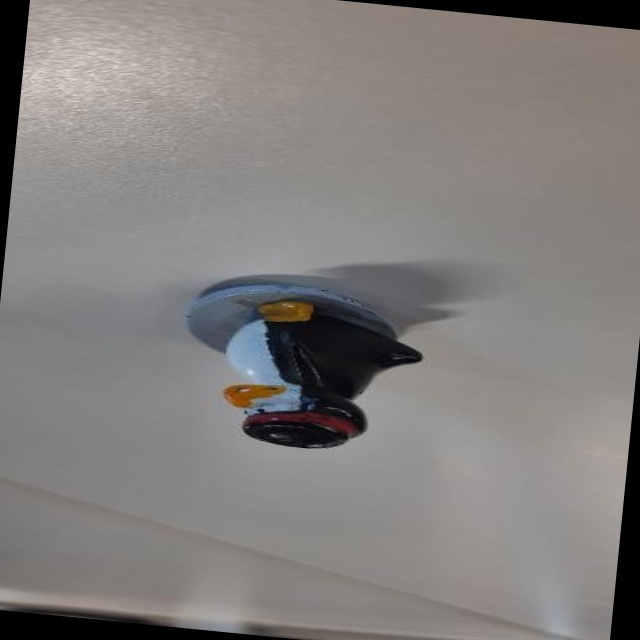Penguin: (152, 259, 450, 486)
